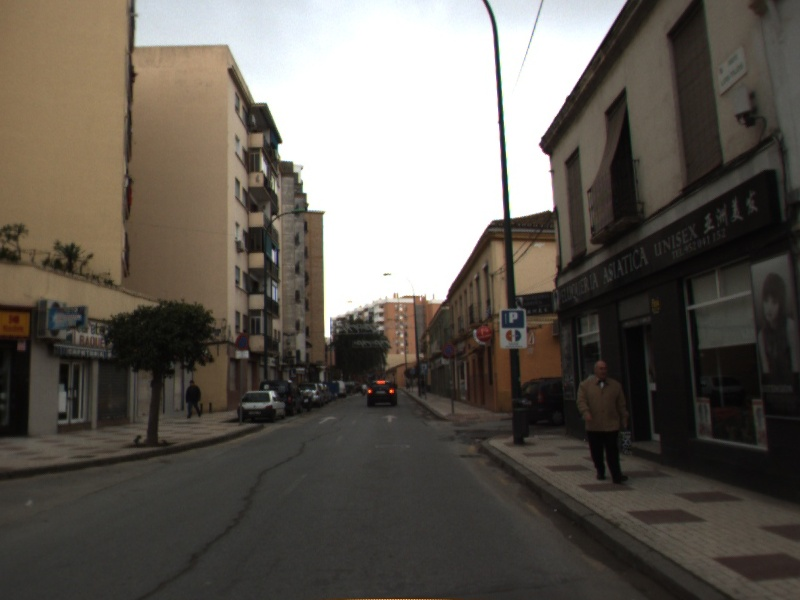STRAIGHT: (316, 414, 339, 426), (380, 412, 400, 424)
